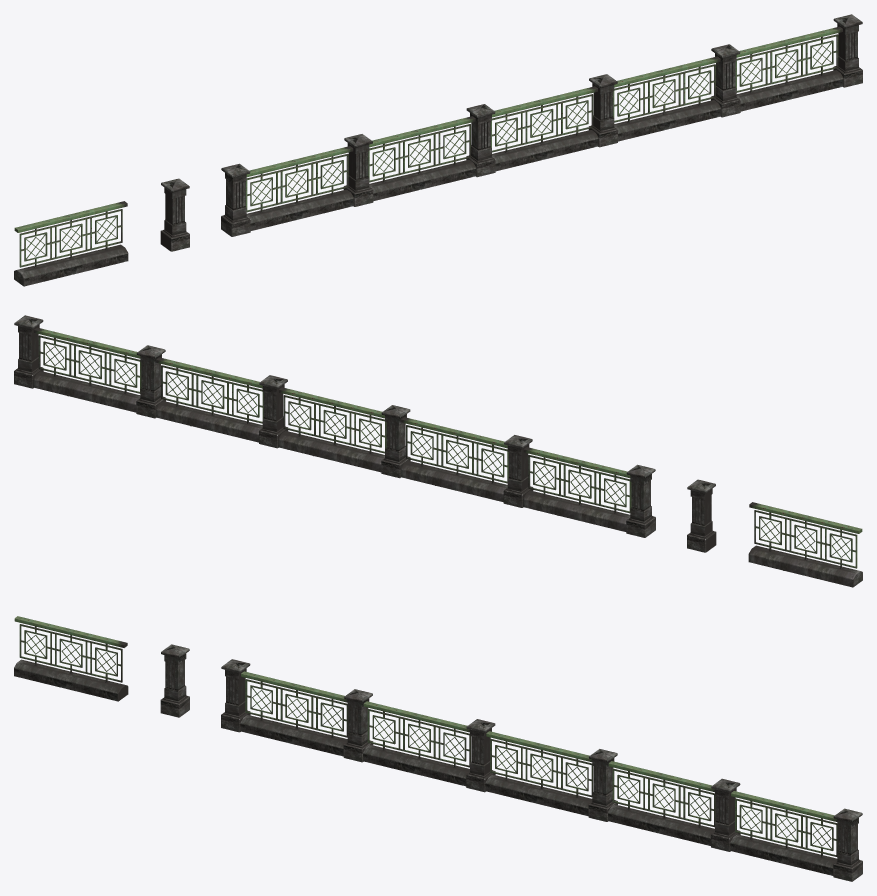
The model's file is guardrail.glb.
The picture shows the model from 3 angles, top to bottom: view 1: azimuth 30°, elevation 25°; view 2: azimuth 150°, elevation 25°; view 3: azimuth 330°, elevation 25°; orthographic projection.
Visible parts, largest first — view 1: Cloner, 01_all_0, 02_all_0, 02_1_all_0; view 2: Cloner, 01_all_0, 02_all_0, 02_1_all_0; view 3: Cloner, 01_all_0, 02_all_0, 02_1_all_0.
Boxes of the visible parts, bbox=[...] form: Cloner: bbox=[245, 14, 862, 230]; 01_all_0: bbox=[14, 201, 128, 286]; 02_all_0: bbox=[160, 178, 189, 251]; 02_1_all_0: bbox=[221, 163, 250, 236]; Cloner: bbox=[14, 315, 631, 531]; 01_all_0: bbox=[748, 502, 862, 587]; 02_all_0: bbox=[687, 479, 716, 552]; 02_1_all_0: bbox=[626, 464, 655, 537]; Cloner: bbox=[240, 671, 862, 881]; 01_all_0: bbox=[14, 616, 128, 701]; 02_all_0: bbox=[160, 644, 189, 717]; 02_1_all_0: bbox=[221, 659, 250, 732].
Size of the model in its own units: 19.52 by 1.4 by 0.4433.
1 material, 1 textured.
